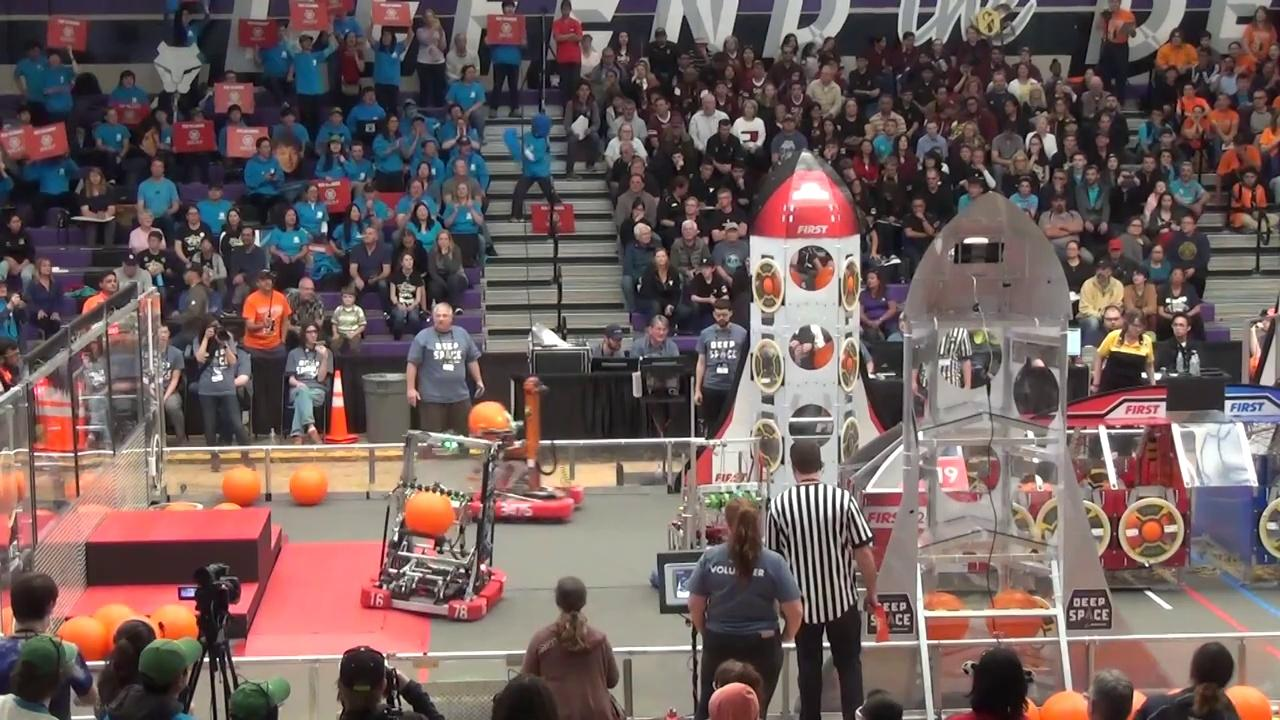robot: (361, 430, 512, 620), (474, 377, 590, 523)
